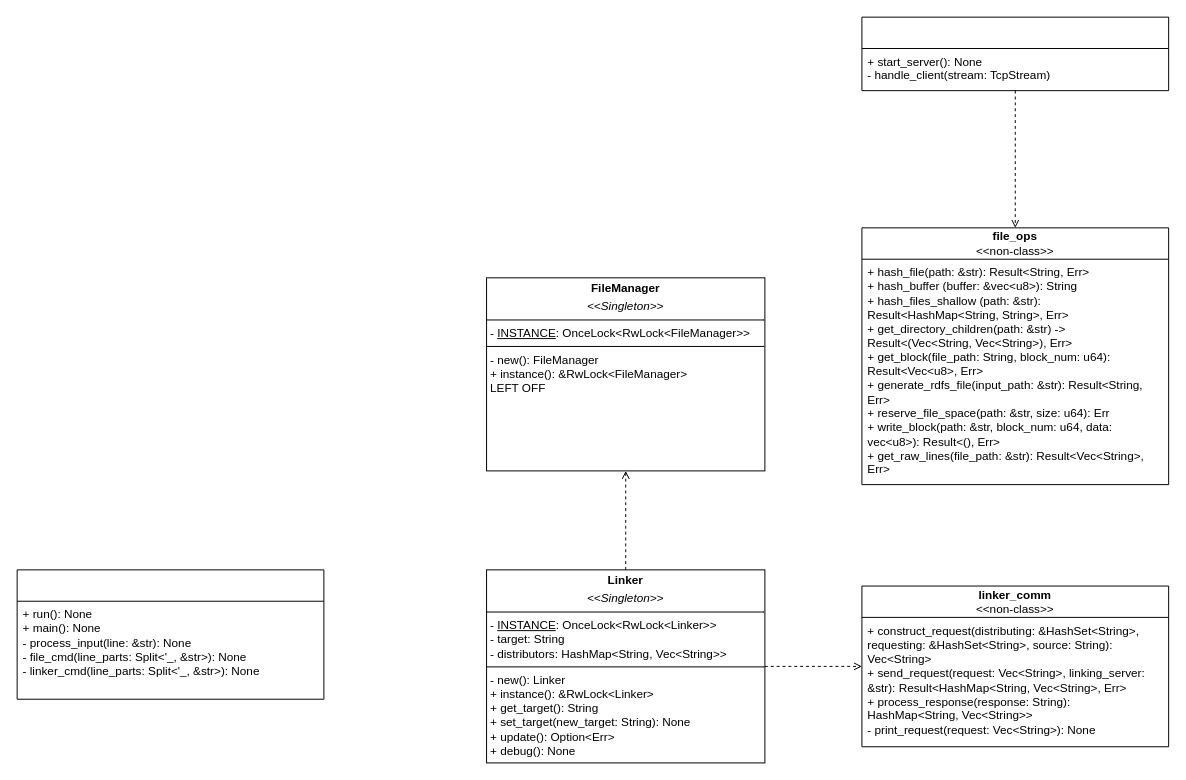
Image size: 1186x780. Some labels were removed from this diagram. Each missing label, with the box of its shape:
file_distributor <<non-class>>: (861, 16, 1169, 91)
ptui <<non-class>>: (16, 569, 324, 699)
